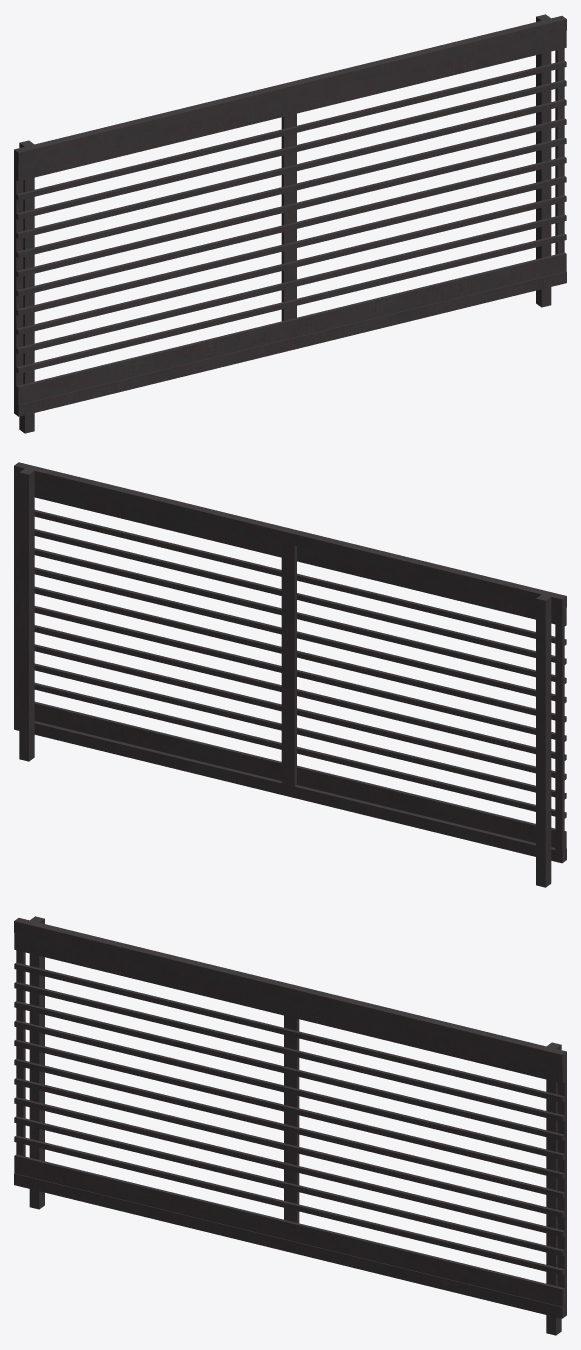
Rendered from EAFyokoitagoushi_w1998-h920_kakicha.fbx.
3 views of the same model, one above another, from view 1: azimuth 30°, elevation 25°; view 2: azimuth 150°, elevation 25°; view 3: azimuth 330°, elevation 25° (orthographic).
Parts seen in each view (by area): view 1: EAFyokoitagoushi_w1998-h920_kakicha; view 2: EAFyokoitagoushi_w1998-h920_kakicha; view 3: EAFyokoitagoushi_w1998-h920_kakicha.
Boxes of the visible parts, bbox=[...] form: EAFyokoitagoushi_w1998-h920_kakicha: bbox=[14, 14, 566, 433]; EAFyokoitagoushi_w1998-h920_kakicha: bbox=[14, 462, 566, 887]; EAFyokoitagoushi_w1998-h920_kakicha: bbox=[14, 916, 566, 1335].
Size of the model in its own units: 200 by 100 by 6.5.
1 material, 1 textured.
